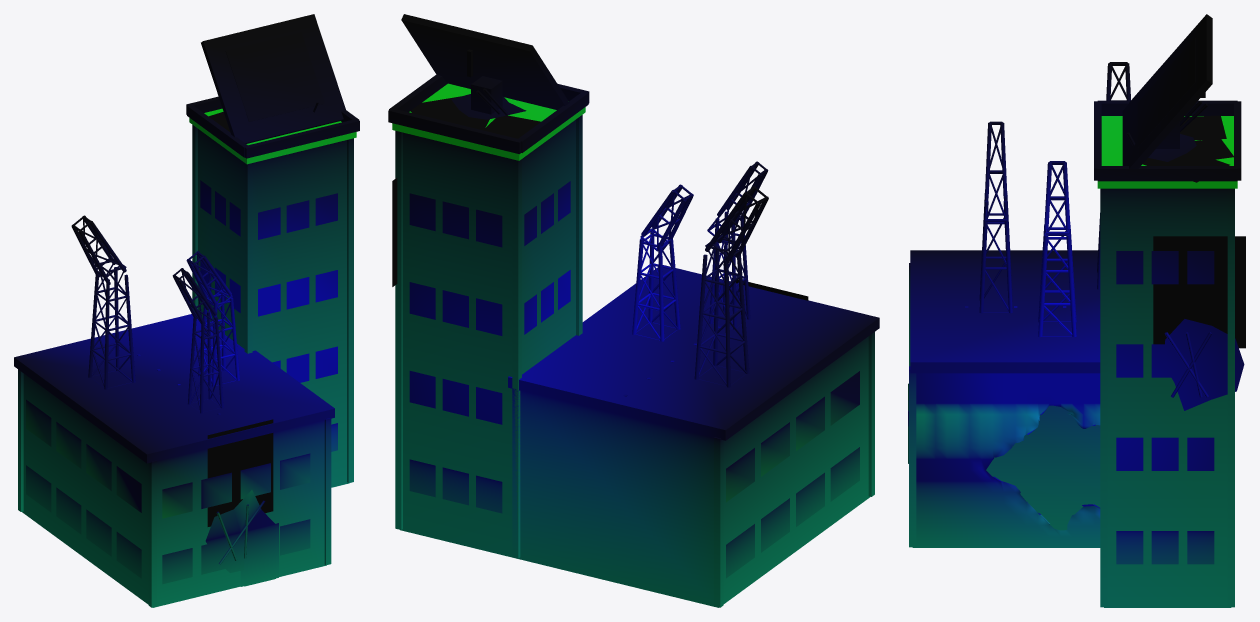
Rendered from d_sensorcontrol_damaged.glb.
The picture shows the model from 3 angles, left to right: view 1: azimuth 30°, elevation 25°; view 2: azimuth 150°, elevation 25°; view 3: azimuth 270°, elevation 25°; orthographic projection. The views are drawn at different scales.
Visible parts, largest first — view 1: lod0; view 2: lod0; view 3: lod0.
Part boxes in pixels (x1=…): lod0: x1=14, y1=14, x2=359, y2=607; lod0: x1=388, y1=14, x2=879, y2=607; lod0: x1=908, y1=14, x2=1245, y2=607.
Size of what is drawn, in the model's own units: 16.77 by 23.95 by 13.78.
